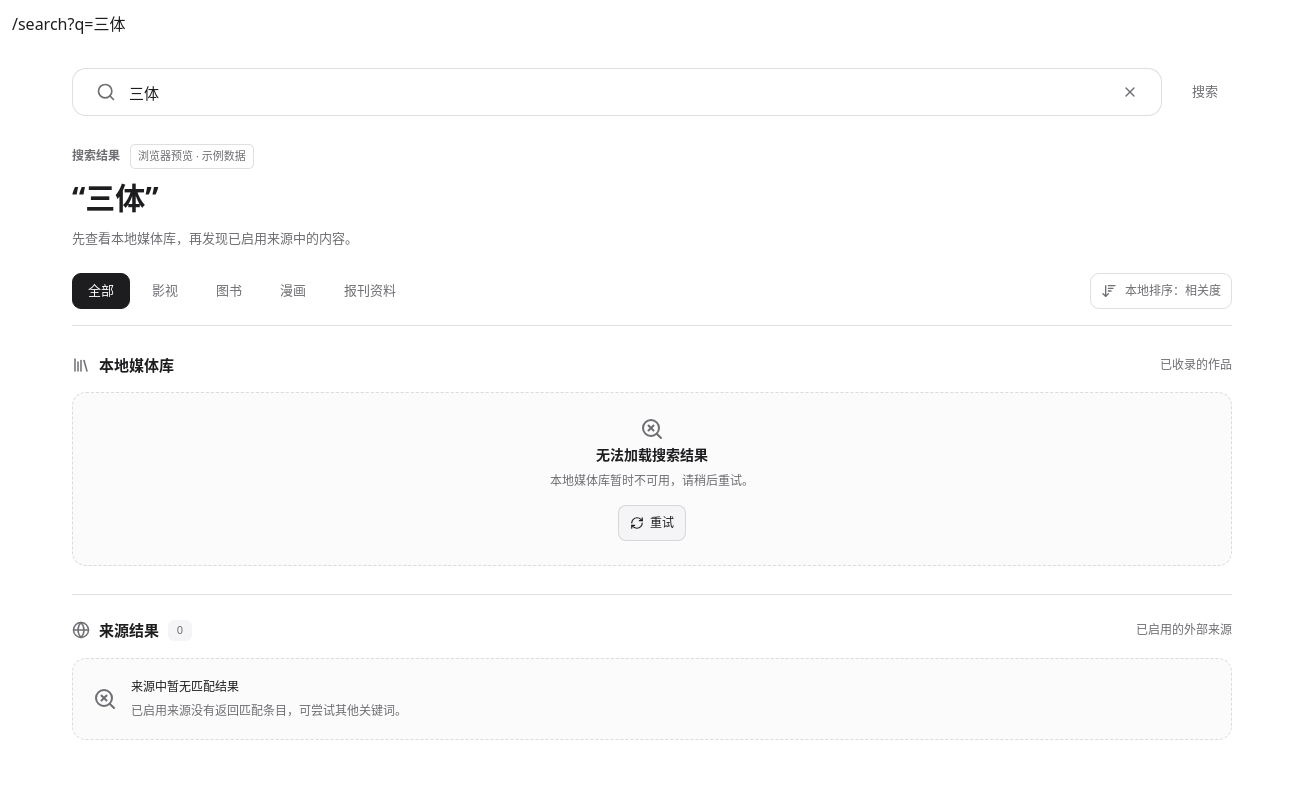
Test: SearchPage result presentation and existing actions › preserves retry after a local search error
Expected: the text "无法加载搜索结果" is shown, [596,445,708,465]
Click the button "重试" at [652, 523], box [618,505,686,541]
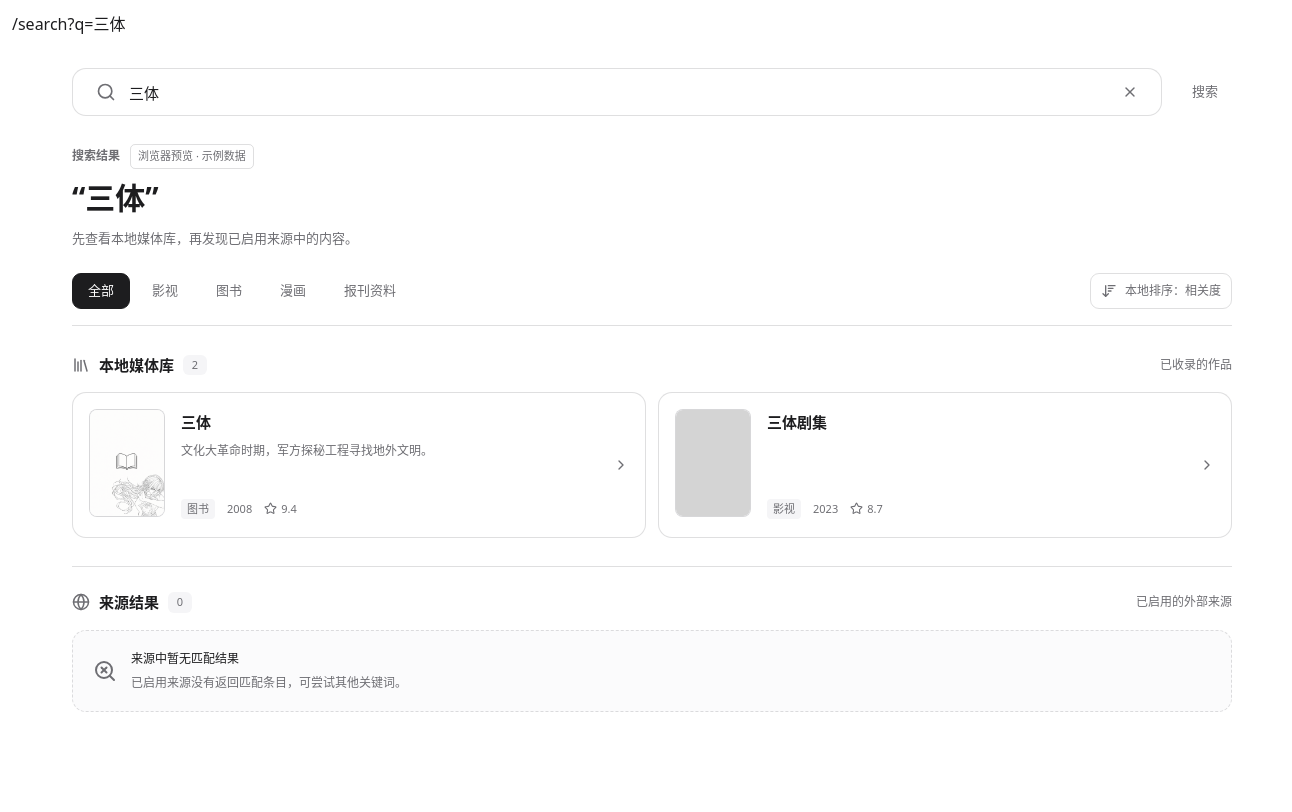
Expected: the button with aria-label "查看作品：三体" is shown, [181,411,211,434]
